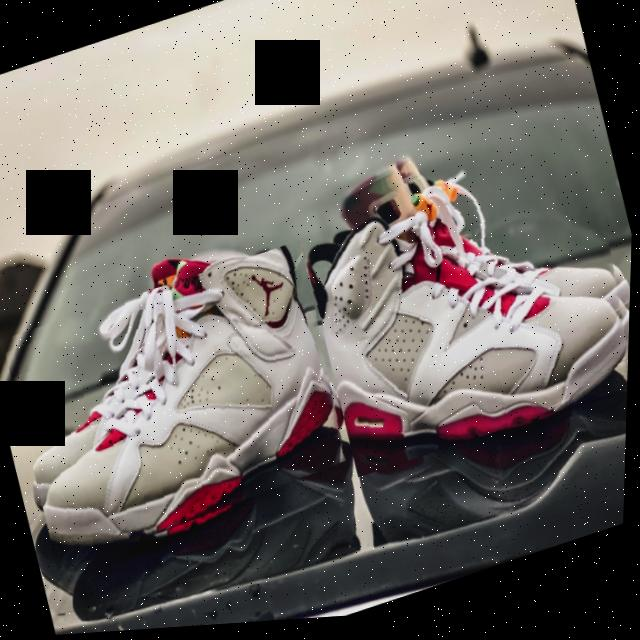shoe: (0, 241, 367, 577), (300, 164, 635, 485)
